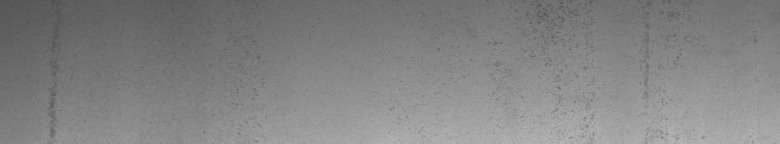ib: (487, 4, 680, 119)
